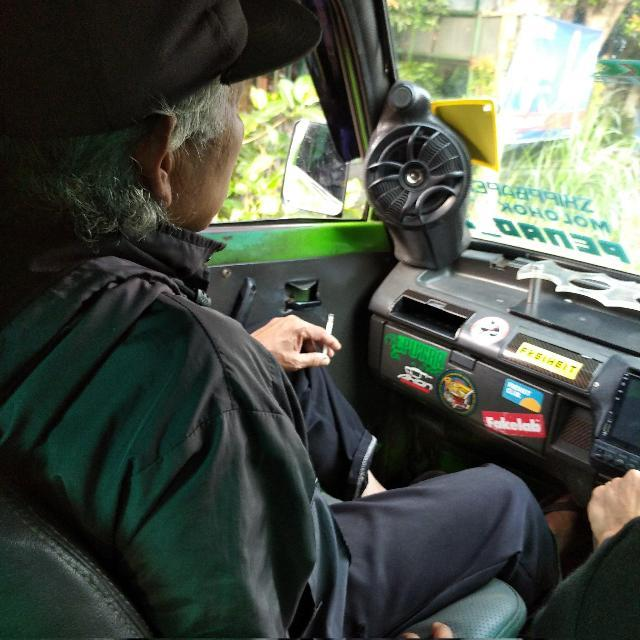rokok: (317, 308, 339, 362)
